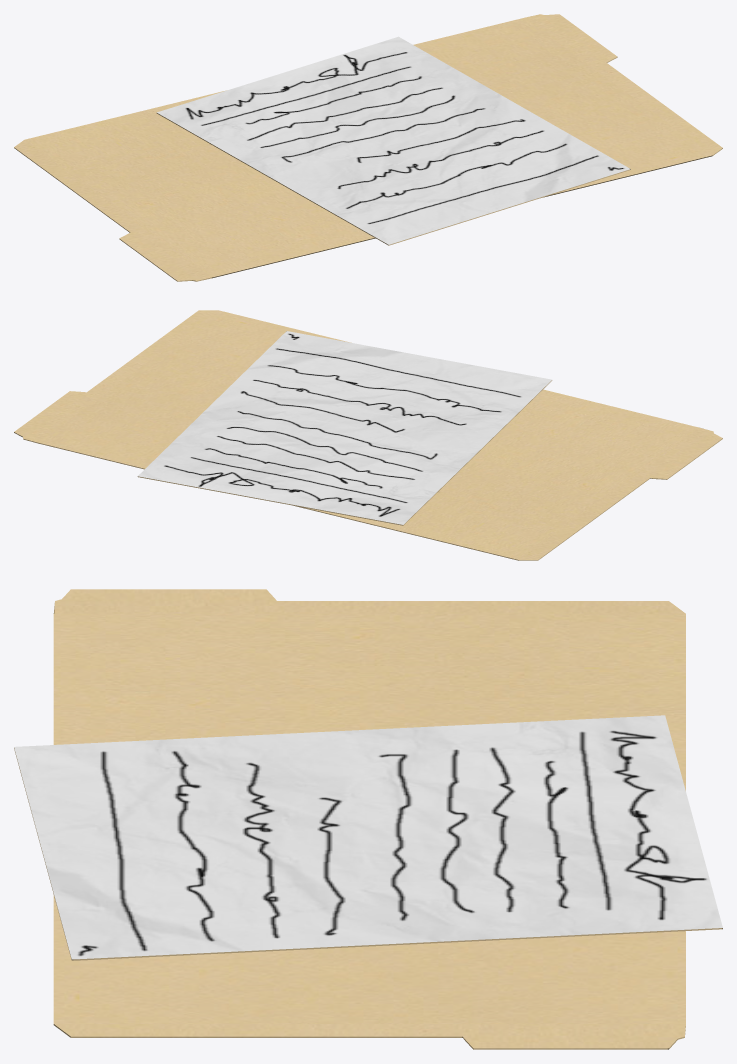
Rendered from mvh_papers 1.fbx.
3 renders of one model, top to bottom at view 1: azimuth 30°, elevation 25°; view 2: azimuth 150°, elevation 25°; view 3: azimuth 270°, elevation 25°, orthographic. The views are drawn at different scales.
Visible parts, largest first — view 1: paper1; view 2: paper1; view 3: paper1.
Boxes of the visible parts, x1,y1,x2,y2 form: paper1: (14,14,722,281); paper1: (14,310,722,560); paper1: (14,589,722,1049).
Bounding box in the file's own units: 6.51 × 0.0206 × 4.25.
Materials: 1 (1 with a texture image).
